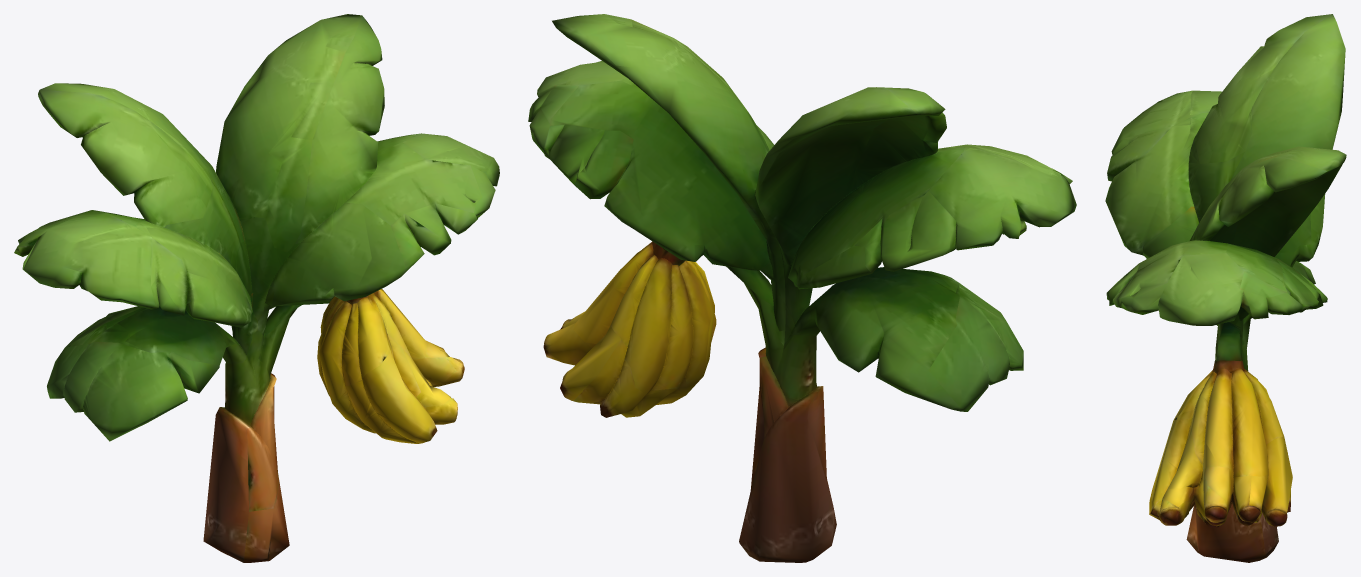
The model's file is banana_pbr.glb.
3 views of the same model, side by side, from view 1: azimuth 30°, elevation 25°; view 2: azimuth 150°, elevation 25°; view 3: azimuth 270°, elevation 25° (orthographic). The views are drawn at different scales.
Visible parts, largest first — view 1: model.005; view 2: model.005; view 3: model.005.
Boxes of the visible parts, x1,y1,x2,y2 form: model.005: (14,14,499,562); model.005: (528,14,1076,562); model.005: (1105,14,1346,562).
Size of the model in its own units: 1.85 by 1.76 by 0.8325.
Materials: 1 (1 with a texture image).
